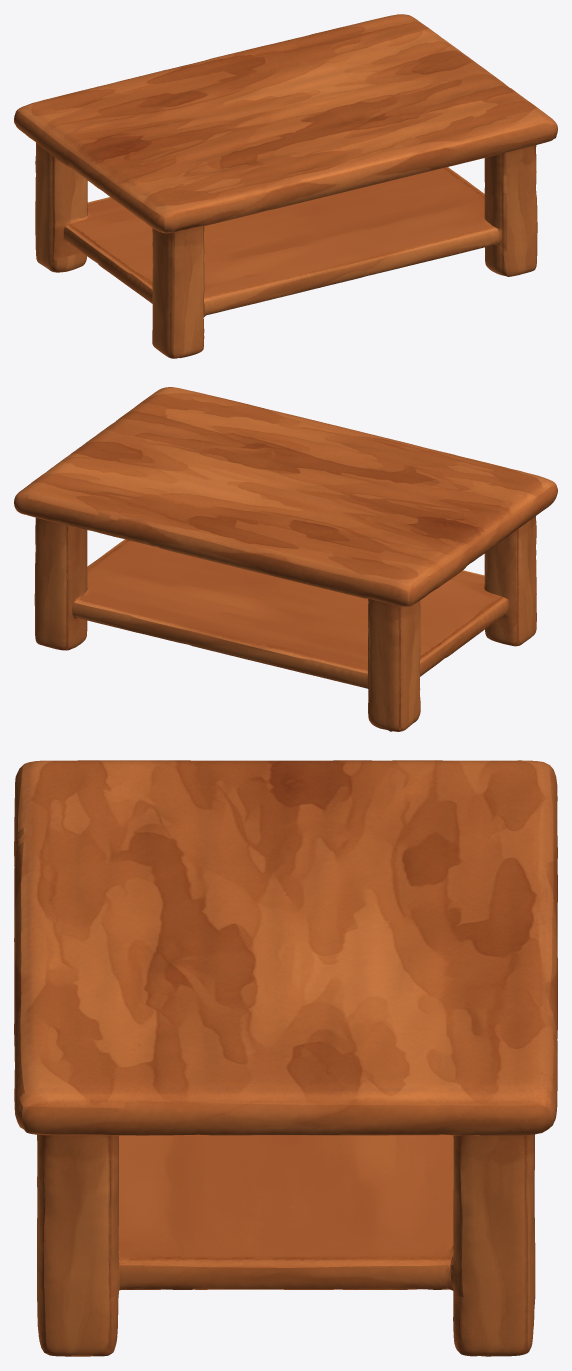
The model's file is coffee_table.glb.
The picture shows the model from 3 angles, top to bottom: view 1: azimuth 30°, elevation 25°; view 2: azimuth 150°, elevation 25°; view 3: azimuth 270°, elevation 25°; orthographic projection. The views are drawn at different scales.
Visible parts, largest first — view 1: Mesh0; view 2: Mesh0; view 3: Mesh0.
Boxes of the visible parts, x1=… form: Mesh0: x1=14, y1=14, x2=557, y2=358; Mesh0: x1=14, y1=387, x2=557, y2=731; Mesh0: x1=14, y1=760, x2=557, y2=1356.
Bounding box in the file's own units: 1.9 × 0.7108 × 1.26.
Materials: 1 (1 with a texture image).
